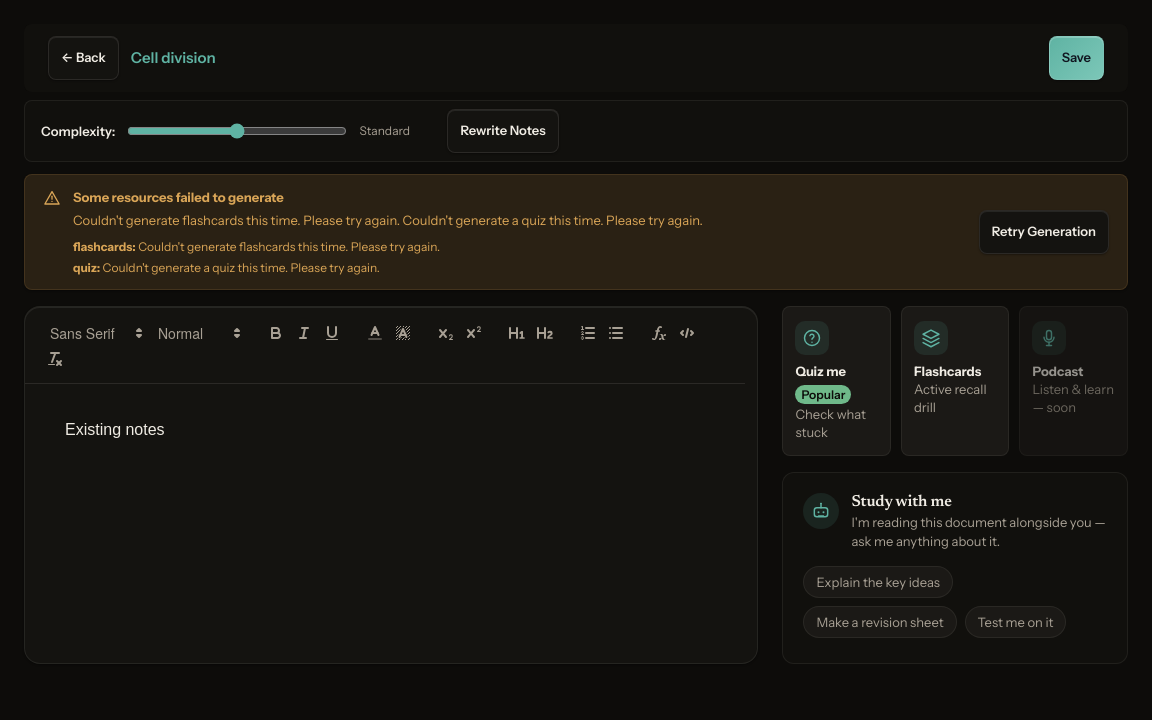
NotesView › acknowledges a manual Save on an unchanged document instead of doing nothing
Expected: the text box labelled "Existing notes" is shown, x1=65 y1=421 x2=165 y2=438
What coordinates should you click on to do the following:
click the button "Save"
I would click on:
 (1076, 58)
Its box is x1=1049 y1=36 x2=1104 y2=80.
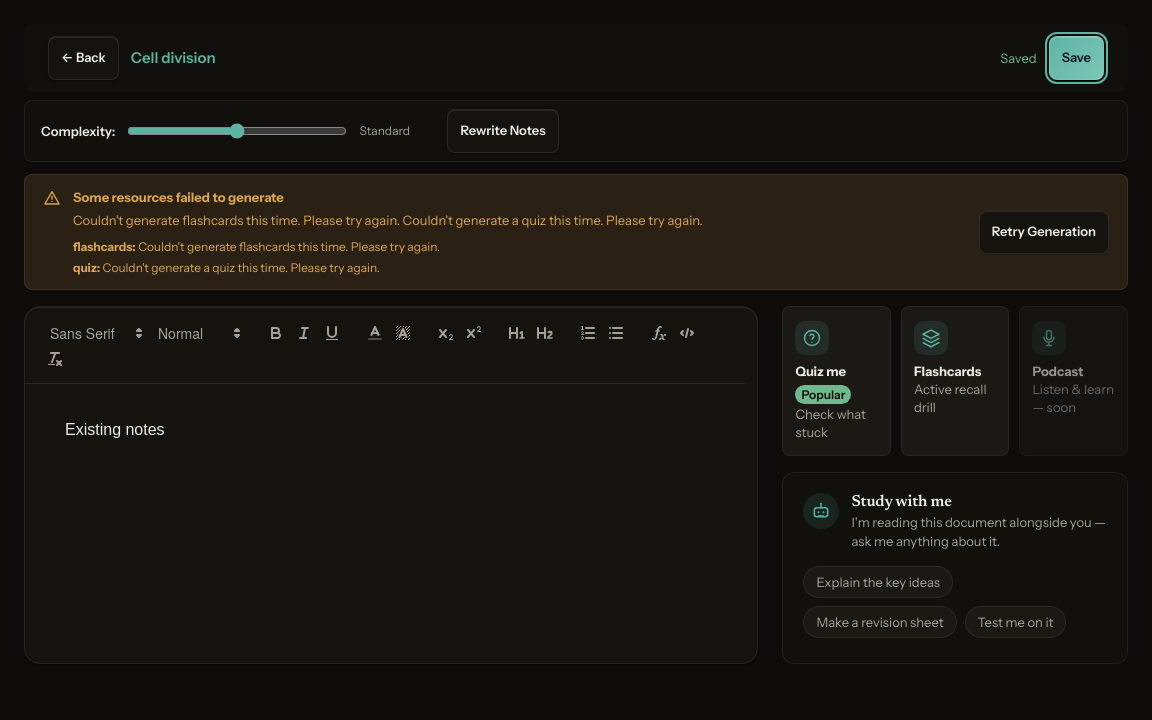
Result: the text "Saved" is shown at x1=1000 y1=48 x2=1037 y2=68
